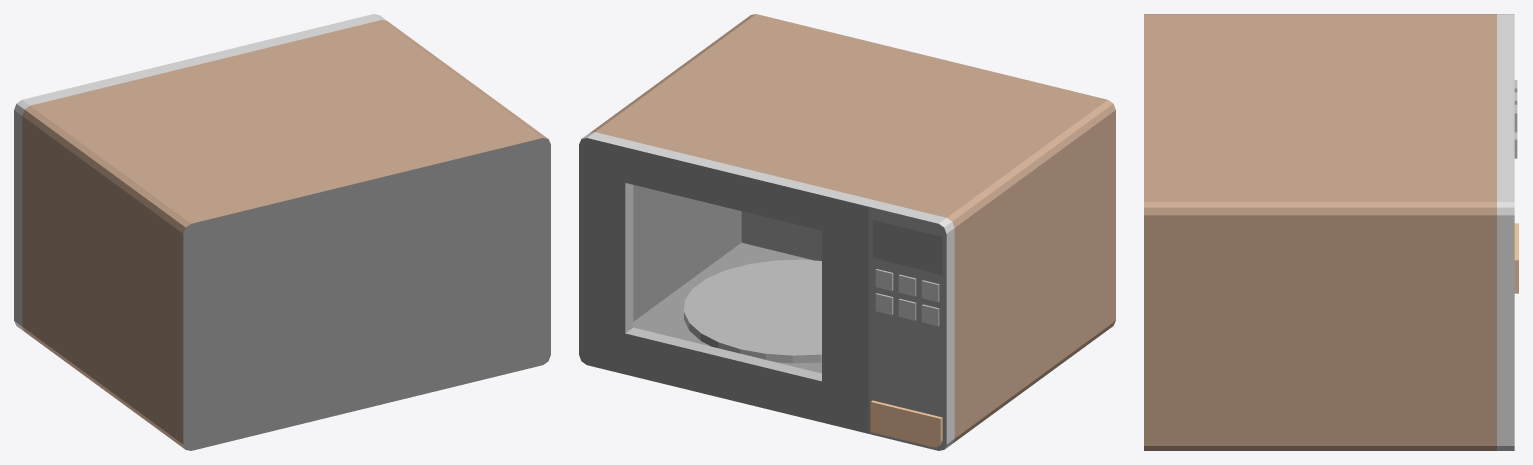
File: Microwave.fbx
3 views of the same model, side by side, from view 1: azimuth 30°, elevation 25°; view 2: azimuth 150°, elevation 25°; view 3: azimuth 270°, elevation 25° (orthographic). The views are drawn at different scales.
Visible parts, largest first — view 1: Microwave, Microwave Door; view 2: Microwave, Microwave Door, Microwave Interior, Microwave Disc, Microwave Button; view 3: Microwave, Microwave Door.
Part boxes in pixels (box(x1,y1,x2,y2)): Microwave: box(14, 20, 550, 450); Microwave Door: box(92, 14, 386, 88); Microwave: box(590, 14, 1115, 450); Microwave Door: box(579, 132, 876, 433); Microwave Interior: box(633, 185, 821, 373); Microwave Disc: box(684, 259, 821, 363); Microwave Button: box(870, 400, 942, 447); Microwave: box(1144, 14, 1517, 450); Microwave Door: box(1497, 51, 1514, 450).
Size of the model in its own units: 0.5588 by 0.3302 by 0.4511.
